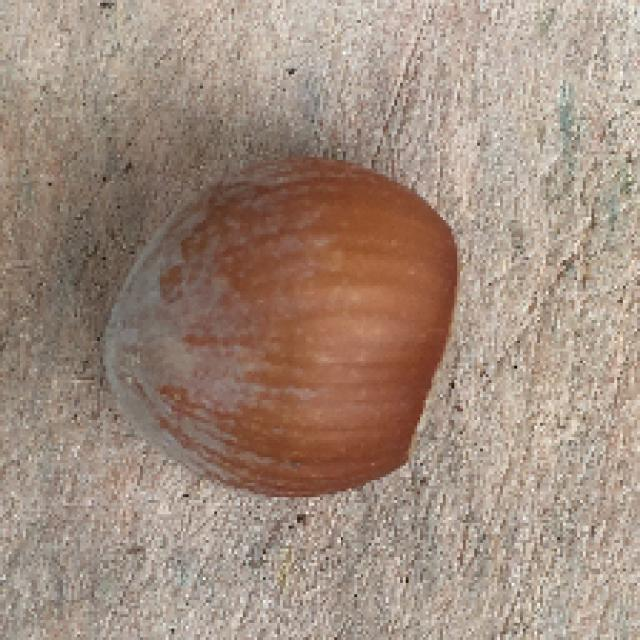qualityHazelnut: (94, 151, 473, 503)
